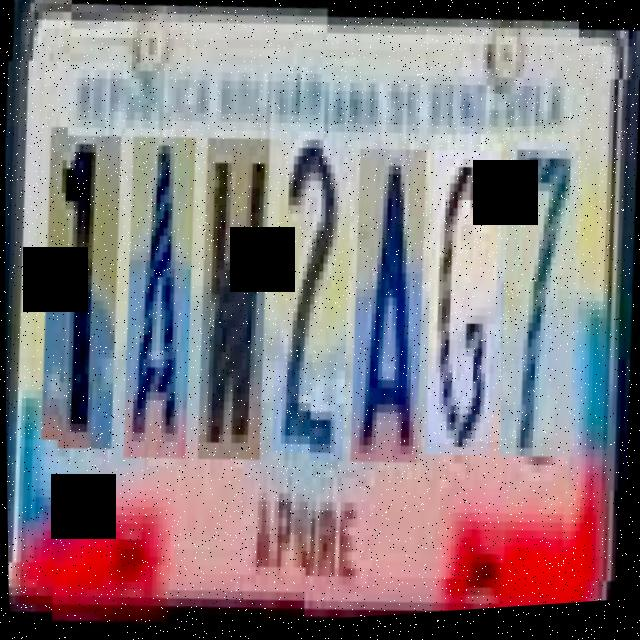1: (38, 131, 125, 453)
2: (269, 127, 356, 456)
7: (497, 131, 584, 452)
A: (348, 136, 430, 457), (121, 132, 198, 461)
G: (422, 138, 504, 451)
W: (195, 134, 274, 463)
